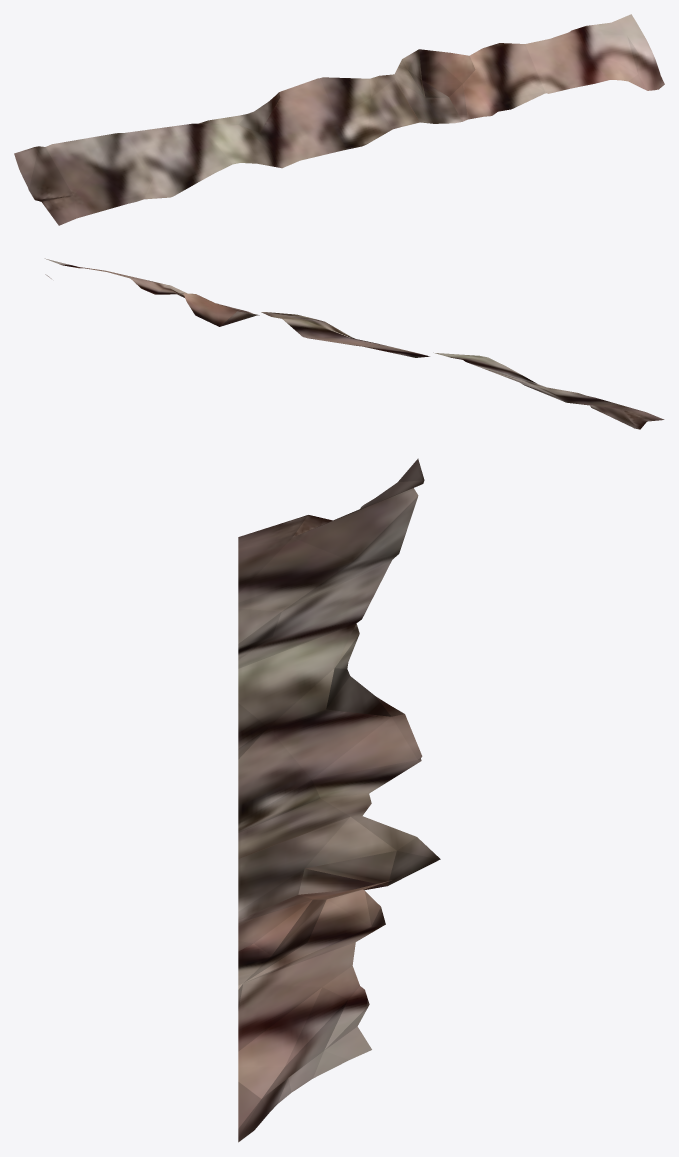
3 renders of one model, top to bottom at view 1: azimuth 30°, elevation 25°; view 2: azimuth 150°, elevation 25°; view 3: azimuth 270°, elevation 25°, orthographic. The views are drawn at different scales.
Size of the model in its own units: 1.67 by 0.1303 by 0.2422.
Materials: 1 (1 with a texture image).
